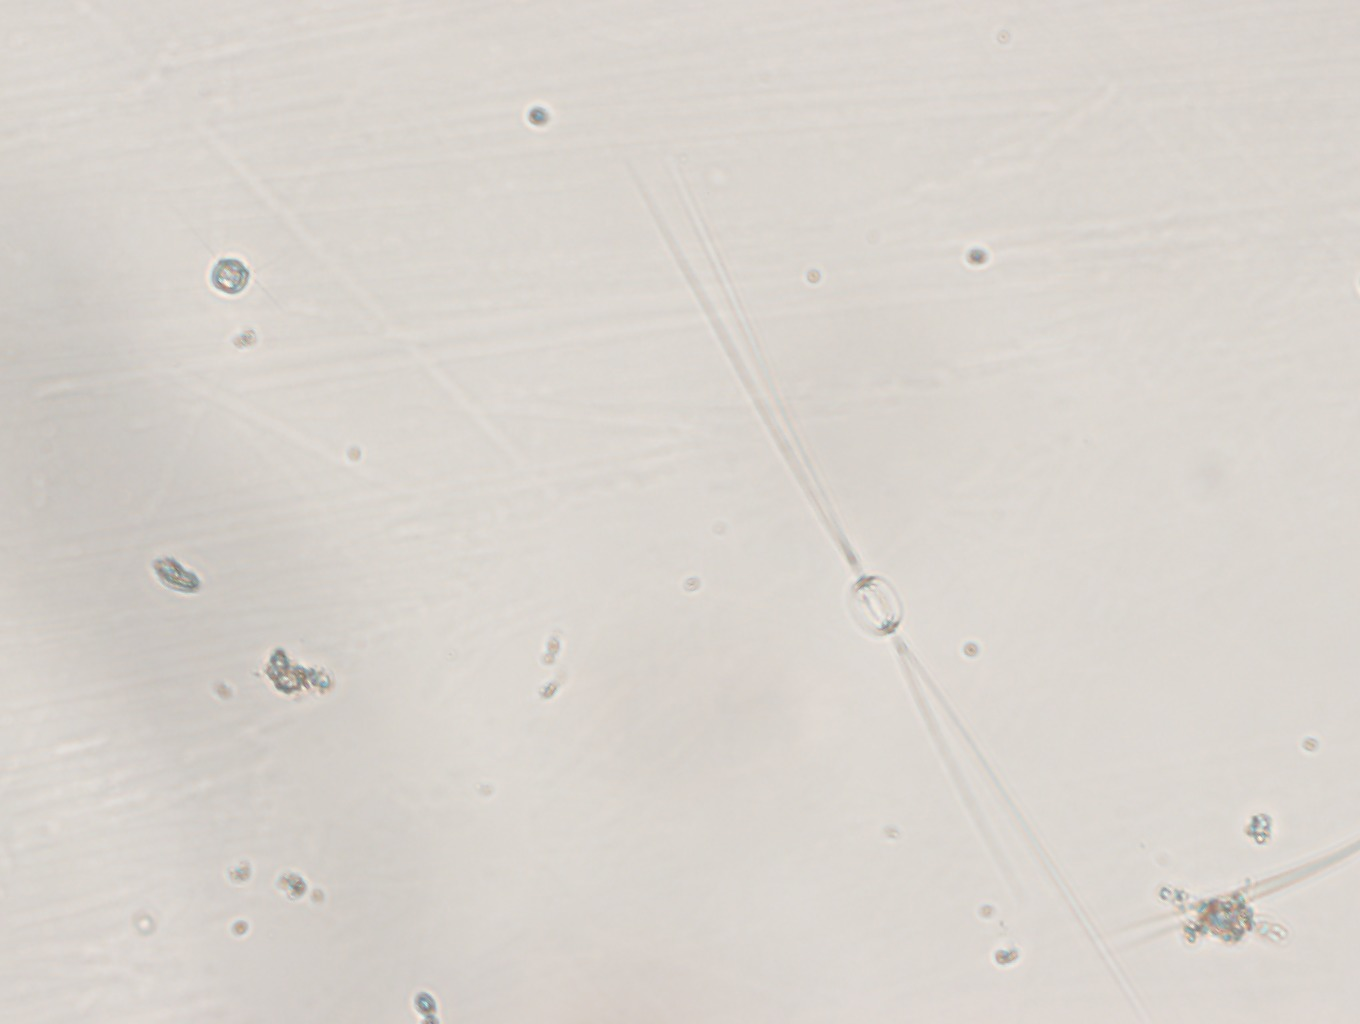chaetoceros: (632, 189, 1121, 949)
